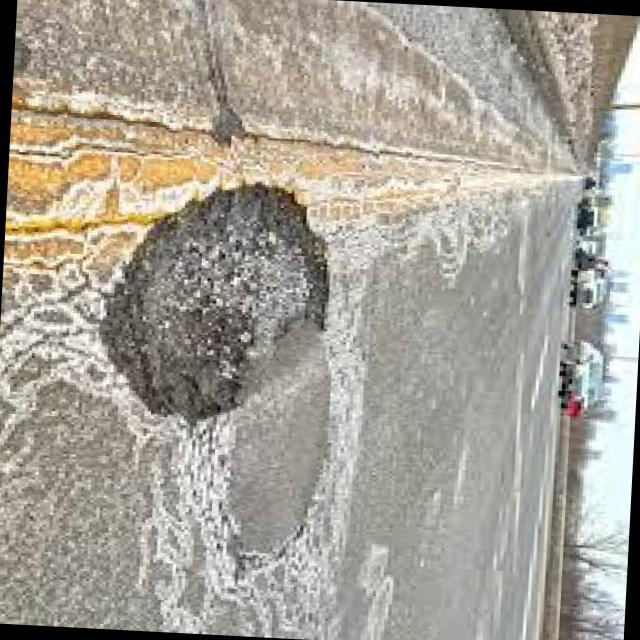pothole: (90, 162, 354, 429)
